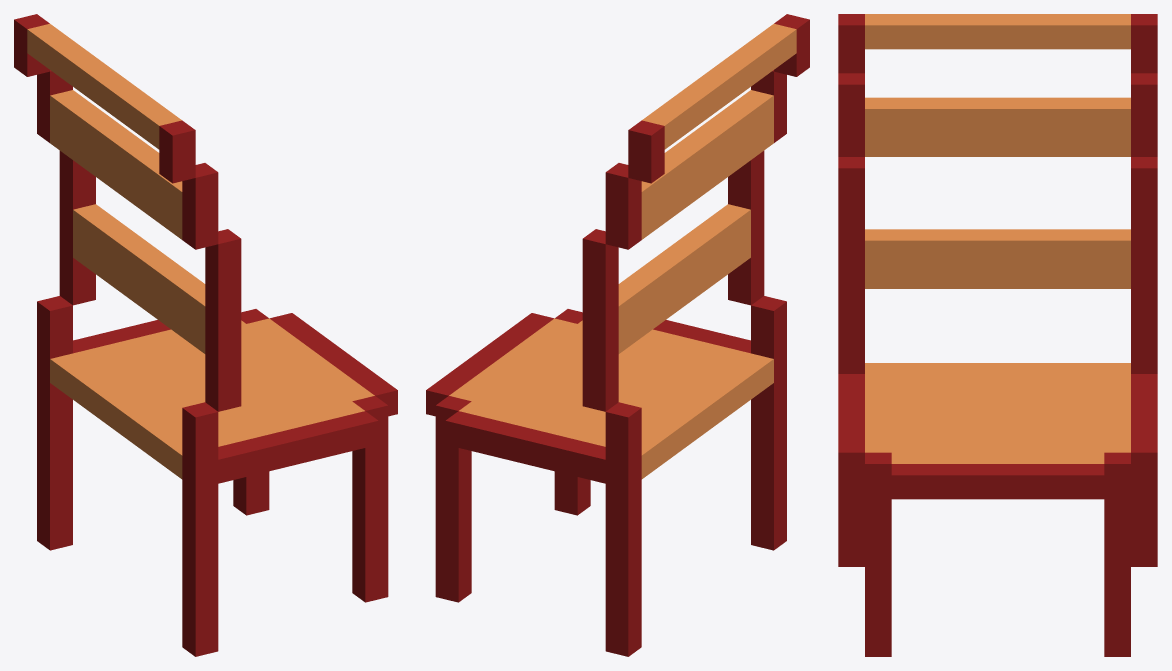
Rendered from Reschair_1.obj.
3 renders of one model, left to right at view 1: azimuth 30°, elevation 25°; view 2: azimuth 150°, elevation 25°; view 3: azimuth 270°, elevation 25°, orthographic.
Size of the model in its own units: 1.1 by 2.2 by 1.2.
1 material, 1 textured.
